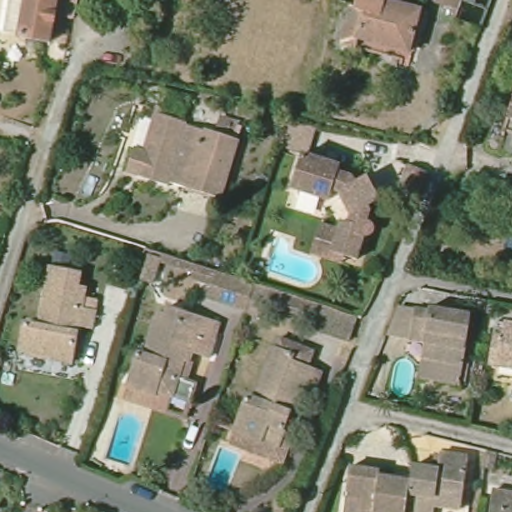pool: (254, 229, 327, 290), (195, 440, 247, 498), (105, 406, 147, 470), (386, 352, 417, 398)
